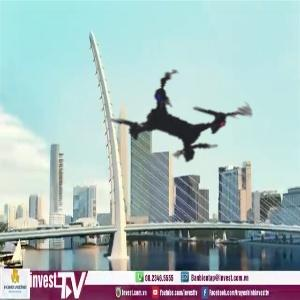drone: (77, 18, 285, 226)
